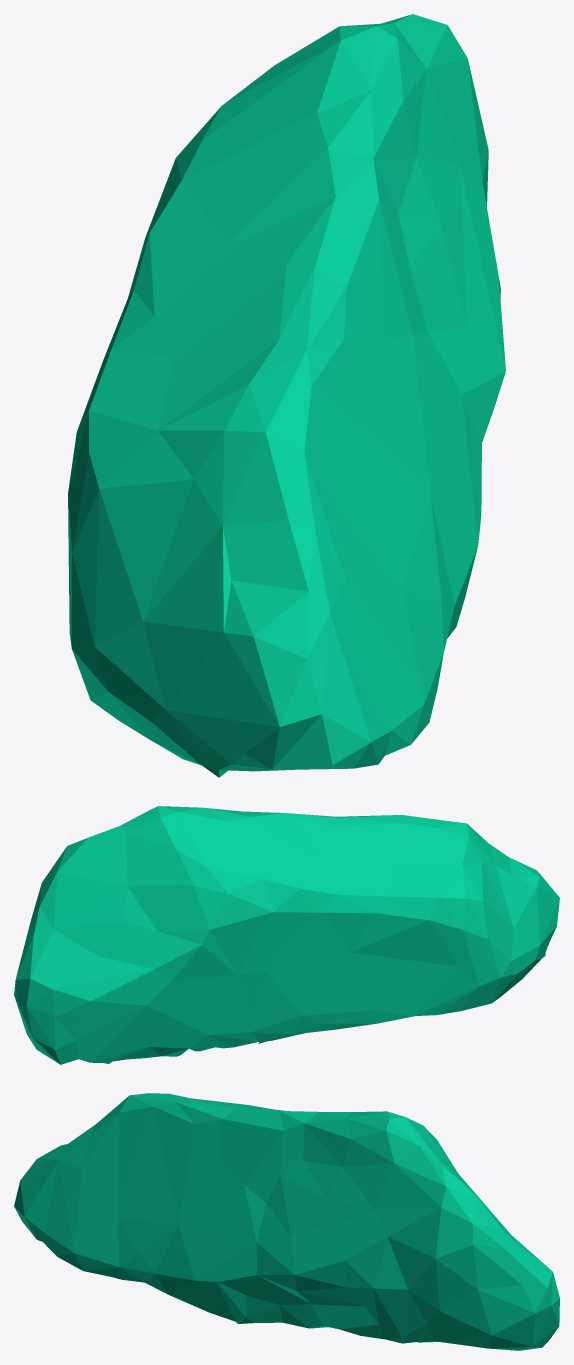
File: teal_rock.dae
The picture shows the model from 3 angles, top to bottom: view 1: azimuth 30°, elevation 25°; view 2: azimuth 150°, elevation 25°; view 3: azimuth 270°, elevation 25°; orthographic projection. The views are drawn at different scales.
Visible parts, largest first — view 1: skpDA; view 2: skpDA; view 3: skpDA.
Boxes of the visible parts, x1,y1,x2,y2 form: skpDA: (68, 14, 505, 777); skpDA: (14, 806, 559, 1064); skpDA: (14, 1093, 559, 1350).
Size of the model in its own units: 28.05 by 39.47 by 17.49.
